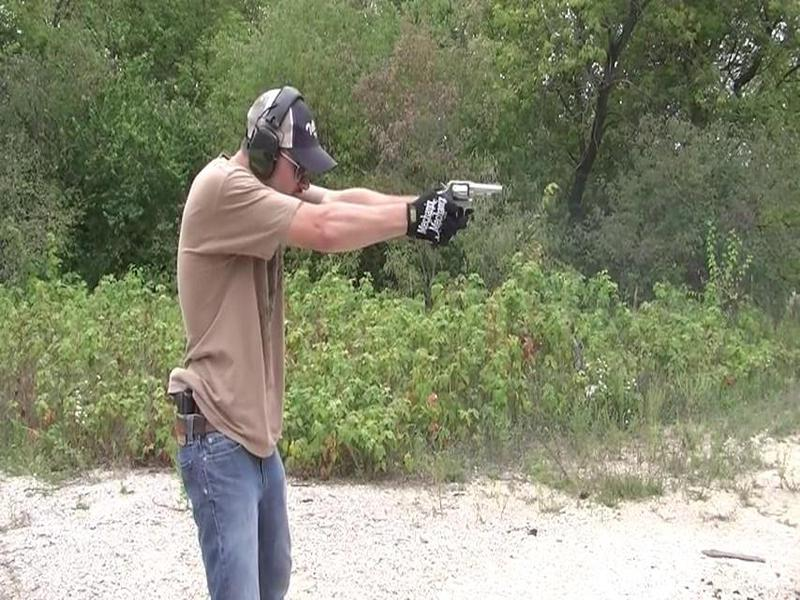Revolver: (417, 171, 510, 223)
